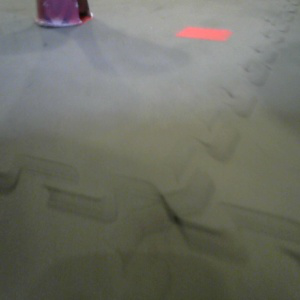right: (25, 1, 103, 30)
